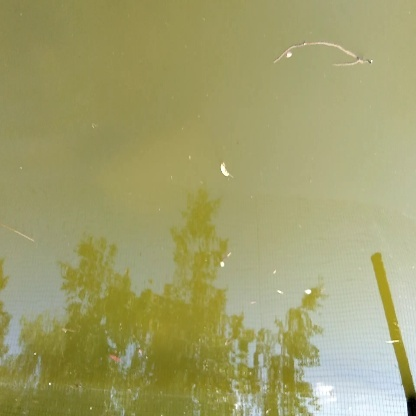branch: (262, 30, 374, 78)
